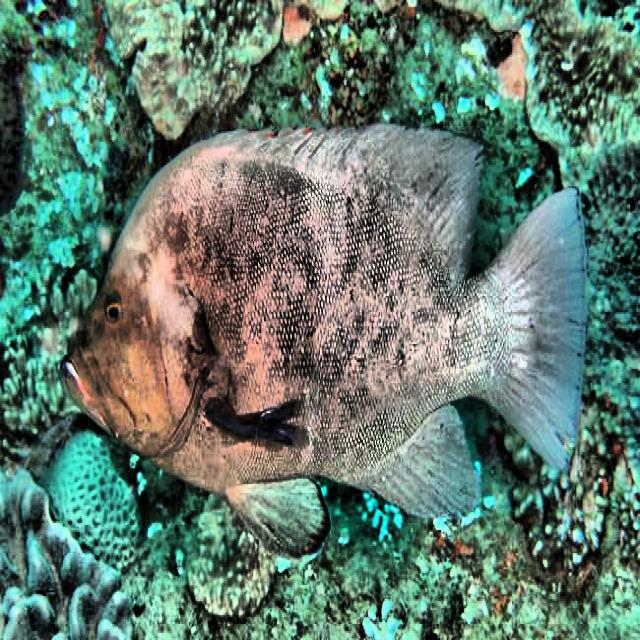fish: (61, 120, 587, 563)
